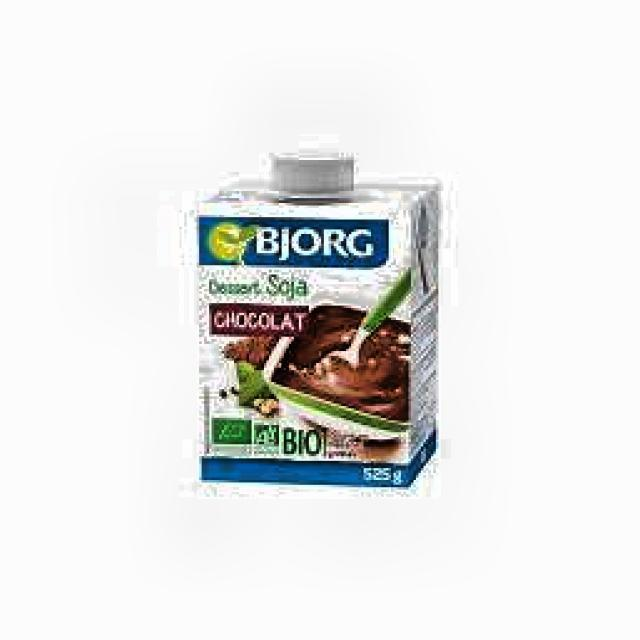cardboard: (194, 155, 441, 487)
